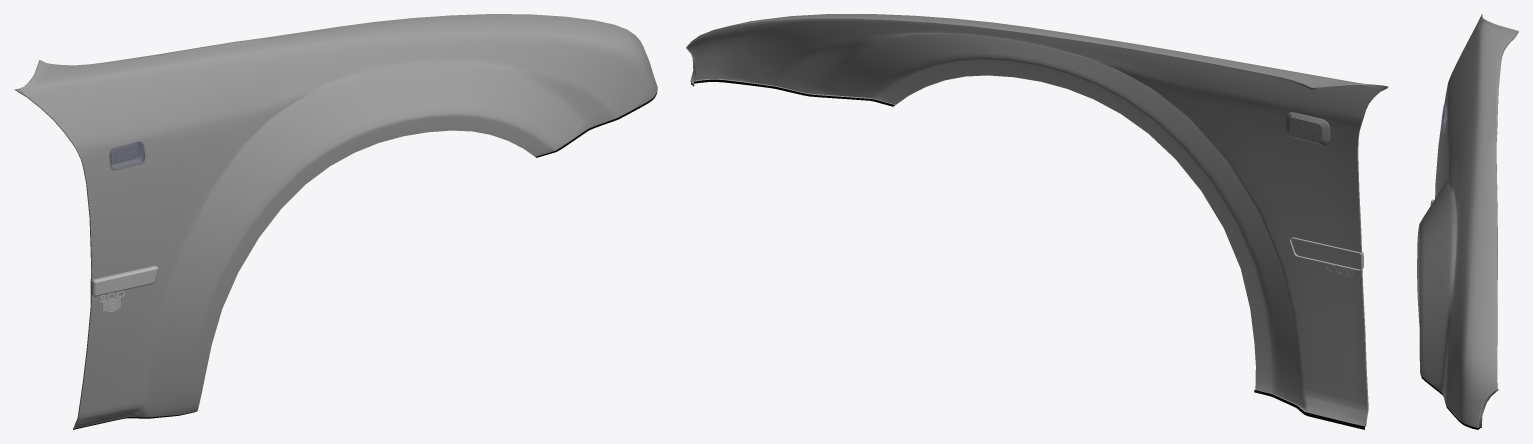
3 views of the same model, side by side, from view 1: azimuth 30°, elevation 25°; view 2: azimuth 150°, elevation 25°; view 3: azimuth 270°, elevation 25° (orthographic). The views are drawn at different scales.
Visible parts, largest first — view 1: M261_141B_R_M261_141B_R_3_DaS, M261_141B_R_M261_141B_R_1_DaS, M261_141B_R_M261_141B_R_2_DTaSI, M261_141B_R_M261_141B_R_4_N; view 2: M261_141B_R_M261_141B_R_3_DaS, M261_141B_R_M261_141B_R_3_DaS_E, M261_141B_R_M261_141B_R_4_N, M261_141B_R_5_D_M261_141B_R; view 3: M261_141B_R_M261_141B_R_3_DaS, M261_141B_R_M261_141B_R_3_DaS_E, M261_141B_R_M261_141B_R_2_DTaSI, M261_141B_R_5_D_M261_141B_R.
Part boxes in pixels (box(x1,y1,x2,y2)): M261_141B_R_M261_141B_R_3_DaS: box(15, 14, 657, 428); M261_141B_R_M261_141B_R_1_DaS: box(91, 265, 158, 311); M261_141B_R_M261_141B_R_2_DTaSI: box(109, 141, 146, 170); M261_141B_R_M261_141B_R_4_N: box(110, 141, 144, 169); M261_141B_R_M261_141B_R_3_DaS: box(687, 14, 1387, 426); M261_141B_R_M261_141B_R_3_DaS_E: box(686, 18, 1388, 426); M261_141B_R_M261_141B_R_4_N: box(1286, 112, 1330, 145); M261_141B_R_5_D_M261_141B_R: box(691, 79, 1364, 429); M261_141B_R_M261_141B_R_3_DaS: box(1417, 14, 1518, 427); M261_141B_R_M261_141B_R_3_DaS_E: box(1479, 14, 1518, 427); M261_141B_R_M261_141B_R_2_DTaSI: box(1441, 104, 1446, 134); M261_141B_R_5_D_M261_141B_R: box(1421, 376, 1481, 429).
Bounding box in the file's own units: 152 × 77.41 × 23.56.
